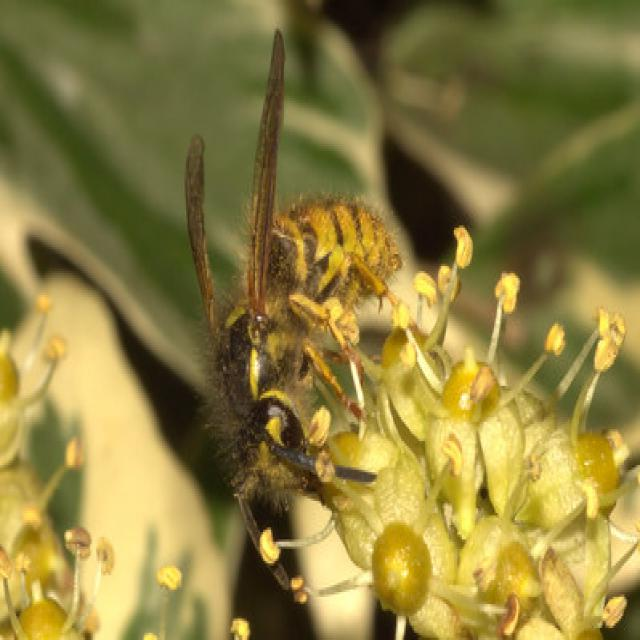Guepe: (168, 13, 428, 545)
